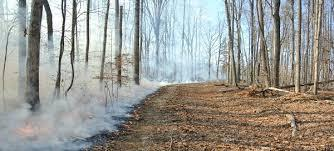smoke: (0, 0, 236, 151)
